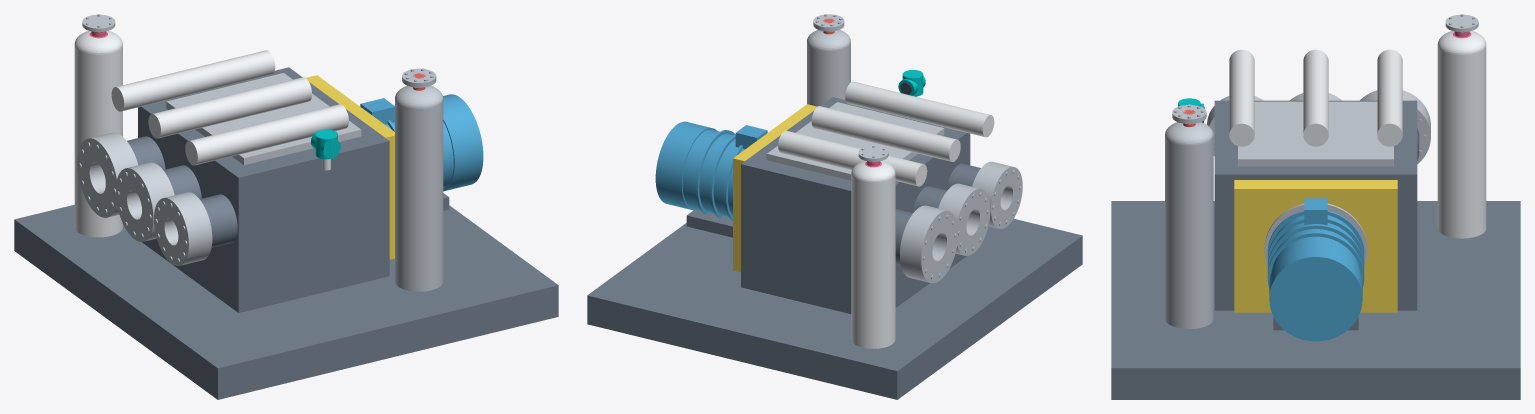
Rendered from CMP-700_Diaphragm_Compressor.glb.
The picture shows the model from 3 angles, left to right: view 1: azimuth 30°, elevation 25°; view 2: azimuth 150°, elevation 25°; view 3: azimuth 270°, elevation 25°; orthographic projection. The views are drawn at different scales.
Visible parts, largest first — view 1: CMP-700_001__CMP700_Heavy_Cast_Skid__STRUCTURAL_SLATE_IS800, CMP-700_002__CMP700_Cast_Crankcase__STRUCTURAL_SLATE_IS800, CMP-700_067__Discharge_Pulsation_Dampener_350Bar__FLANGE_FOR, CMP-700_056__Suction_Pulsation_Dampener_30Bar__SS316L_POLISH, CMP-700_018__Stage1_95Bar_Diaphragm_Head_Intercooler_Shell__, CMP-700_033__Stage2_195Bar_Diaphragm_Head_Intercooler_Shell_, CMP-700_048__Stage3_350Bar_Diaphragm_Head_Intercooler_Shell_, CMP-700_003__CMP700_Crankcase_Top_Cover__FLANGE_FORGED_SS, CMP-700_035__Stage3_350Bar_Diaphragm_Head__FLANGE_FORGED_SS, CMP-700_005__Stage1_95Bar_Diaphragm_Head__FLANGE_FORGED_SS, CMP-700_020__Stage2_195Bar_Diaphragm_Head__FLANGE_FORGED_SS, CMP-700_051__CMP700_65kW_ATEX_Drive_Motor_FanCowl__MOTOR_IEC (+11 smaller); view 2: CMP-700_001__CMP700_Heavy_Cast_Skid__STRUCTURAL_SLATE_IS800, CMP-700_002__CMP700_Cast_Crankcase__STRUCTURAL_SLATE_IS800, CMP-700_056__Suction_Pulsation_Dampener_30Bar__SS316L_POLISH, CMP-700_005__Stage1_95Bar_Diaphragm_Head__FLANGE_FORGED_SS, CMP-700_033__Stage2_195Bar_Diaphragm_Head_Intercooler_Shell_, CMP-700_048__Stage3_350Bar_Diaphragm_Head_Intercooler_Shell_, CMP-700_050__CMP700_65kW_ATEX_Drive_Motor_Stator__MOTOR_IEC_, CMP-700_003__CMP700_Crankcase_Top_Cover__FLANGE_FORGED_SS, CMP-700_018__Stage1_95Bar_Diaphragm_Head_Intercooler_Shell__, CMP-700_051__CMP700_65kW_ATEX_Drive_Motor_FanCowl__MOTOR_IEC, CMP-700_020__Stage2_195Bar_Diaphragm_Head__FLANGE_FORGED_SS, CMP-700_067__Discharge_Pulsation_Dampener_350Bar__FLANGE_FOR (+11 smaller); view 3: CMP-700_001__CMP700_Heavy_Cast_Skid__STRUCTURAL_SLATE_IS800, CMP-700_055__CMP700_Flywheel_Coupling_Guard__SAFETY_YELLOW_O, CMP-700_002__CMP700_Cast_Crankcase__STRUCTURAL_SLATE_IS800, CMP-700_056__Suction_Pulsation_Dampener_30Bar__SS316L_POLISH, CMP-700_067__Discharge_Pulsation_Dampener_350Bar__FLANGE_FOR, CMP-700_003__CMP700_Crankcase_Top_Cover__FLANGE_FORGED_SS, CMP-700_051__CMP700_65kW_ATEX_Drive_Motor_FanCowl__MOTOR_IEC, CMP-700_018__Stage1_95Bar_Diaphragm_Head_Intercooler_Shell__, CMP-700_033__Stage2_195Bar_Diaphragm_Head_Intercooler_Shell_, CMP-700_048__Stage3_350Bar_Diaphragm_Head_Intercooler_Shell_, CMP-700_052__CMP700_65kW_ATEX_Drive_Motor_CoolingFin__MOTOR_, CMP-700_050__CMP700_65kW_ATEX_Drive_Motor_Stator__MOTOR_IEC_ (+7 smaller).
Part boxes in pixels (x1,y1,x2,y2): CMP-700_001__CMP700_Heavy_Cast_Skid__STRUCTURAL_SLATE_IS800: (14,204,558,399); CMP-700_002__CMP700_Cast_Crankcase__STRUCTURAL_SLATE_IS800: (138,67,389,312); CMP-700_067__Discharge_Pulsation_Dampener_350Bar__FLANGE_FOR: (395,100,443,291); CMP-700_056__Suction_Pulsation_Dampener_30Bar__SS316L_POLISH: (74,46,122,237); CMP-700_018__Stage1_95Bar_Diaphragm_Head_Intercooler_Shell__: (111,50,275,111); CMP-700_033__Stage2_195Bar_Diaphragm_Head_Intercooler_Shell_: (148,77,311,138); CMP-700_048__Stage3_350Bar_Diaphragm_Head_Intercooler_Shell_: (185,104,348,165); CMP-700_003__CMP700_Crankcase_Top_Cover__FLANGE_FORGED_SS: (166,73,361,164); CMP-700_035__Stage3_350Bar_Diaphragm_Head__FLANGE_FORGED_SS: (154,192,212,265); CMP-700_005__Stage1_95Bar_Diaphragm_Head__FLANGE_FORGED_SS: (77,132,138,217); CMP-700_020__Stage2_195Bar_Diaphragm_Head__FLANGE_FORGED_SS: (115,162,174,241); CMP-700_051__CMP700_65kW_ATEX_Drive_Motor_FanCowl__MOTOR_IEC: (443,94,483,191); CMP-700_001__CMP700_Heavy_Cast_Skid__STRUCTURAL_SLATE_IS800: (587,219,1082,399); CMP-700_002__CMP700_Cast_Crankcase__STRUCTURAL_SLATE_IS800: (741,97,970,313); CMP-700_056__Suction_Pulsation_Dampener_30Bar__SS316L_POLISH: (851,174,895,348); CMP-700_005__Stage1_95Bar_Diaphragm_Head__FLANGE_FORGED_SS: (900,205,958,283); CMP-700_033__Stage2_195Bar_Diaphragm_Head_Intercooler_Shell_: (811,106,960,161); CMP-700_048__Stage3_350Bar_Diaphragm_Head_Intercooler_Shell_: (845,81,994,137); CMP-700_050__CMP700_65kW_ATEX_Drive_Motor_Stator__MOTOR_IEC_: (682,129,744,217); CMP-700_003__CMP700_Crankcase_Top_Cover__FLANGE_FORGED_SS: (766,102,944,180); CMP-700_018__Stage1_95Bar_Diaphragm_Head_Intercooler_Shell__: (778,130,927,186); CMP-700_051__CMP700_65kW_ATEX_Drive_Motor_FanCowl__MOTOR_IEC: (655,121,716,210); CMP-700_020__Stage2_195Bar_Diaphragm_Head__FLANGE_FORGED_SS: (938,183,990,255); CMP-700_067__Discharge_Pulsation_Dampener_350Bar__FLANGE_FOR: (807,43,850,106); CMP-700_001__CMP700_Heavy_Cast_Skid__STRUCTURAL_SLATE_IS800: (1111,201,1520,399); CMP-700_055__CMP700_Flywheel_Coupling_Guard__SAFETY_YELLOW_O: (1234,180,1397,312); CMP-700_002__CMP700_Cast_Crankcase__STRUCTURAL_SLATE_IS800: (1214,100,1417,310); CMP-700_056__Suction_Pulsation_Dampener_30Bar__SS316L_POLISH: (1437,45,1486,238); CMP-700_067__Discharge_Pulsation_Dampener_350Bar__FLANGE_FOR: (1165,136,1213,328); CMP-700_003__CMP700_Crankcase_Top_Cover__FLANGE_FORGED_SS: (1238,101,1393,166); CMP-700_051__CMP700_65kW_ATEX_Drive_Motor_FanCowl__MOTOR_IEC: (1269,243,1362,341); CMP-700_018__Stage1_95Bar_Diaphragm_Head_Intercooler_Shell__: (1377,49,1402,146); CMP-700_033__Stage2_195Bar_Diaphragm_Head_Intercooler_Shell_: (1303,49,1328,146); CMP-700_048__Stage3_350Bar_Diaphragm_Head_Intercooler_Shell_: (1229,49,1254,146); CMP-700_052__CMP700_65kW_ATEX_Drive_Motor_CoolingFin__MOTOR_: (1267,210,1364,287); CMP-700_050__CMP700_65kW_ATEX_Drive_Motor_Stator__MOTOR_IEC_: (1271,215,1360,271).
Size of the model in its own units: 2.05 by 1.36 by 2.1.
